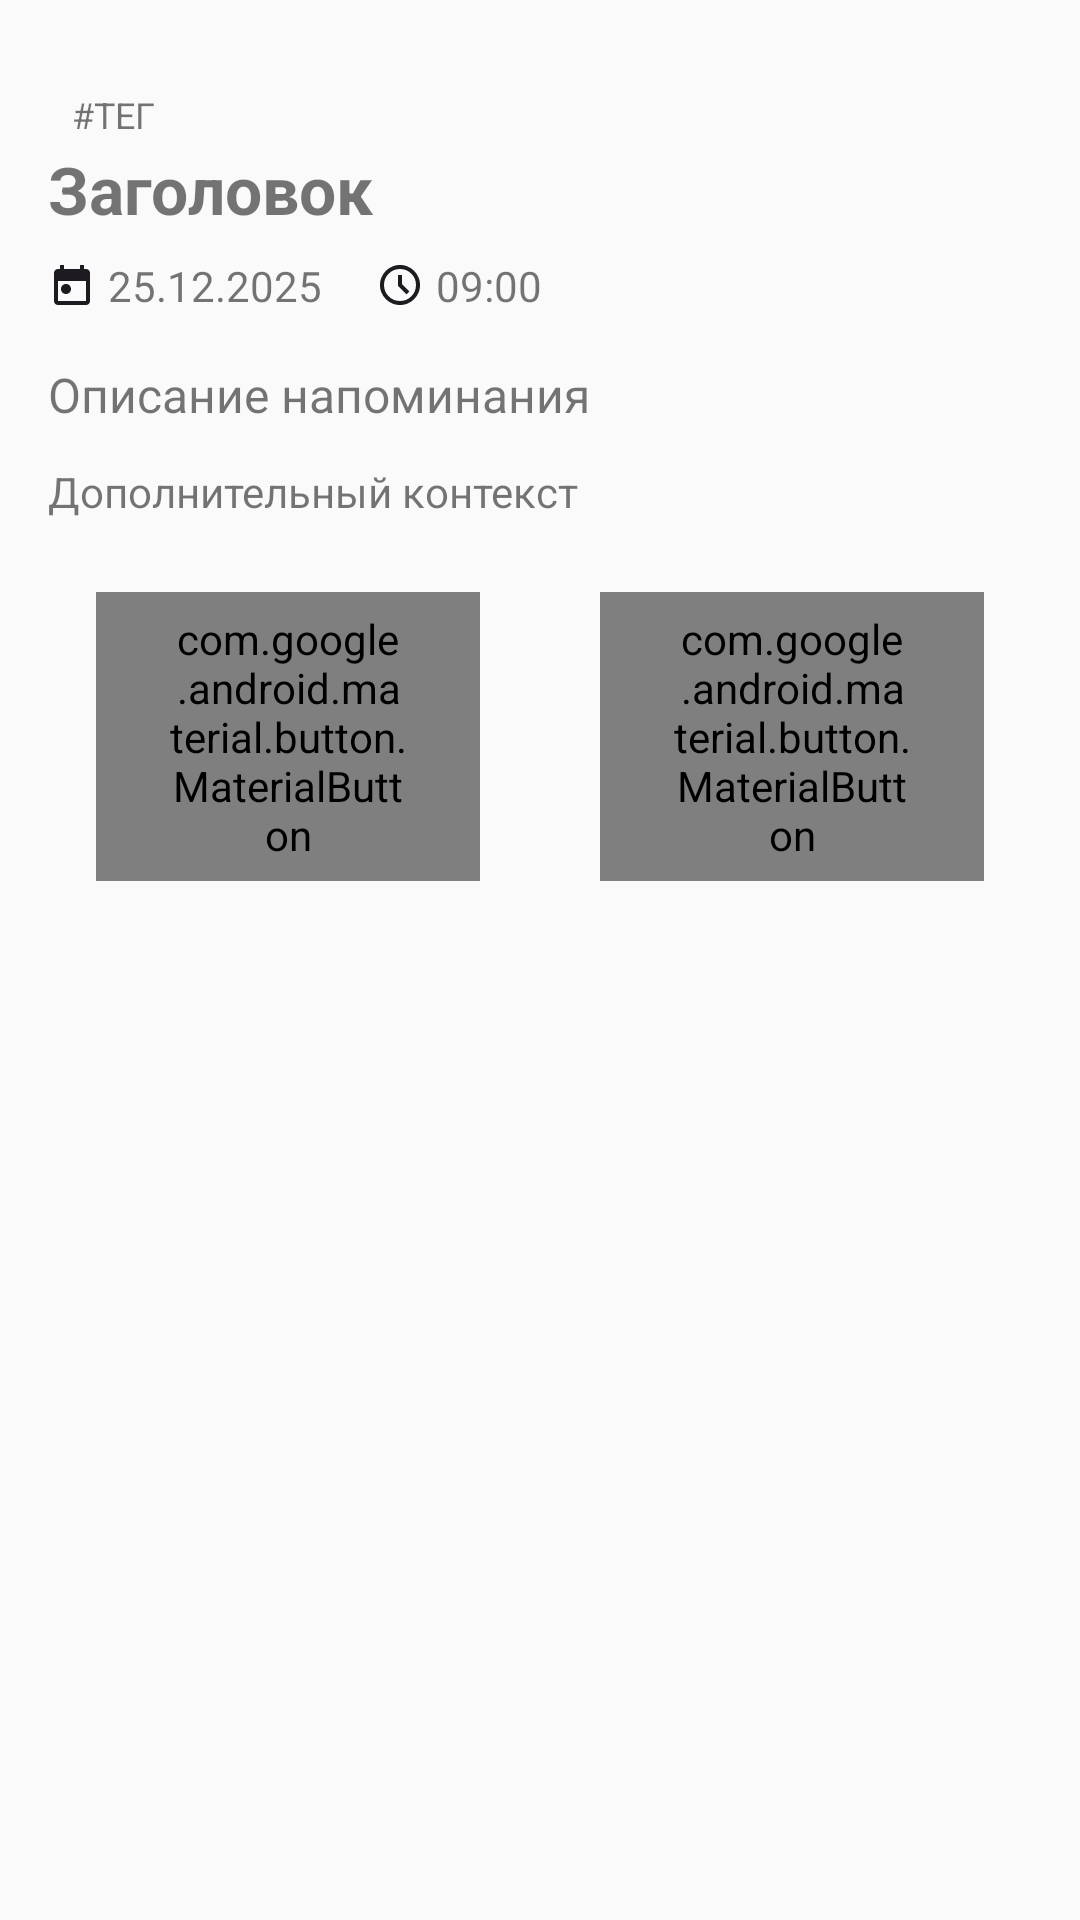

Where to tap for icons on this 1080px x 1920px app screen, as (x,y):
calendar: (72,285)
clock: (400,285)
